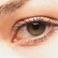eye: (27, 22, 46, 36)
